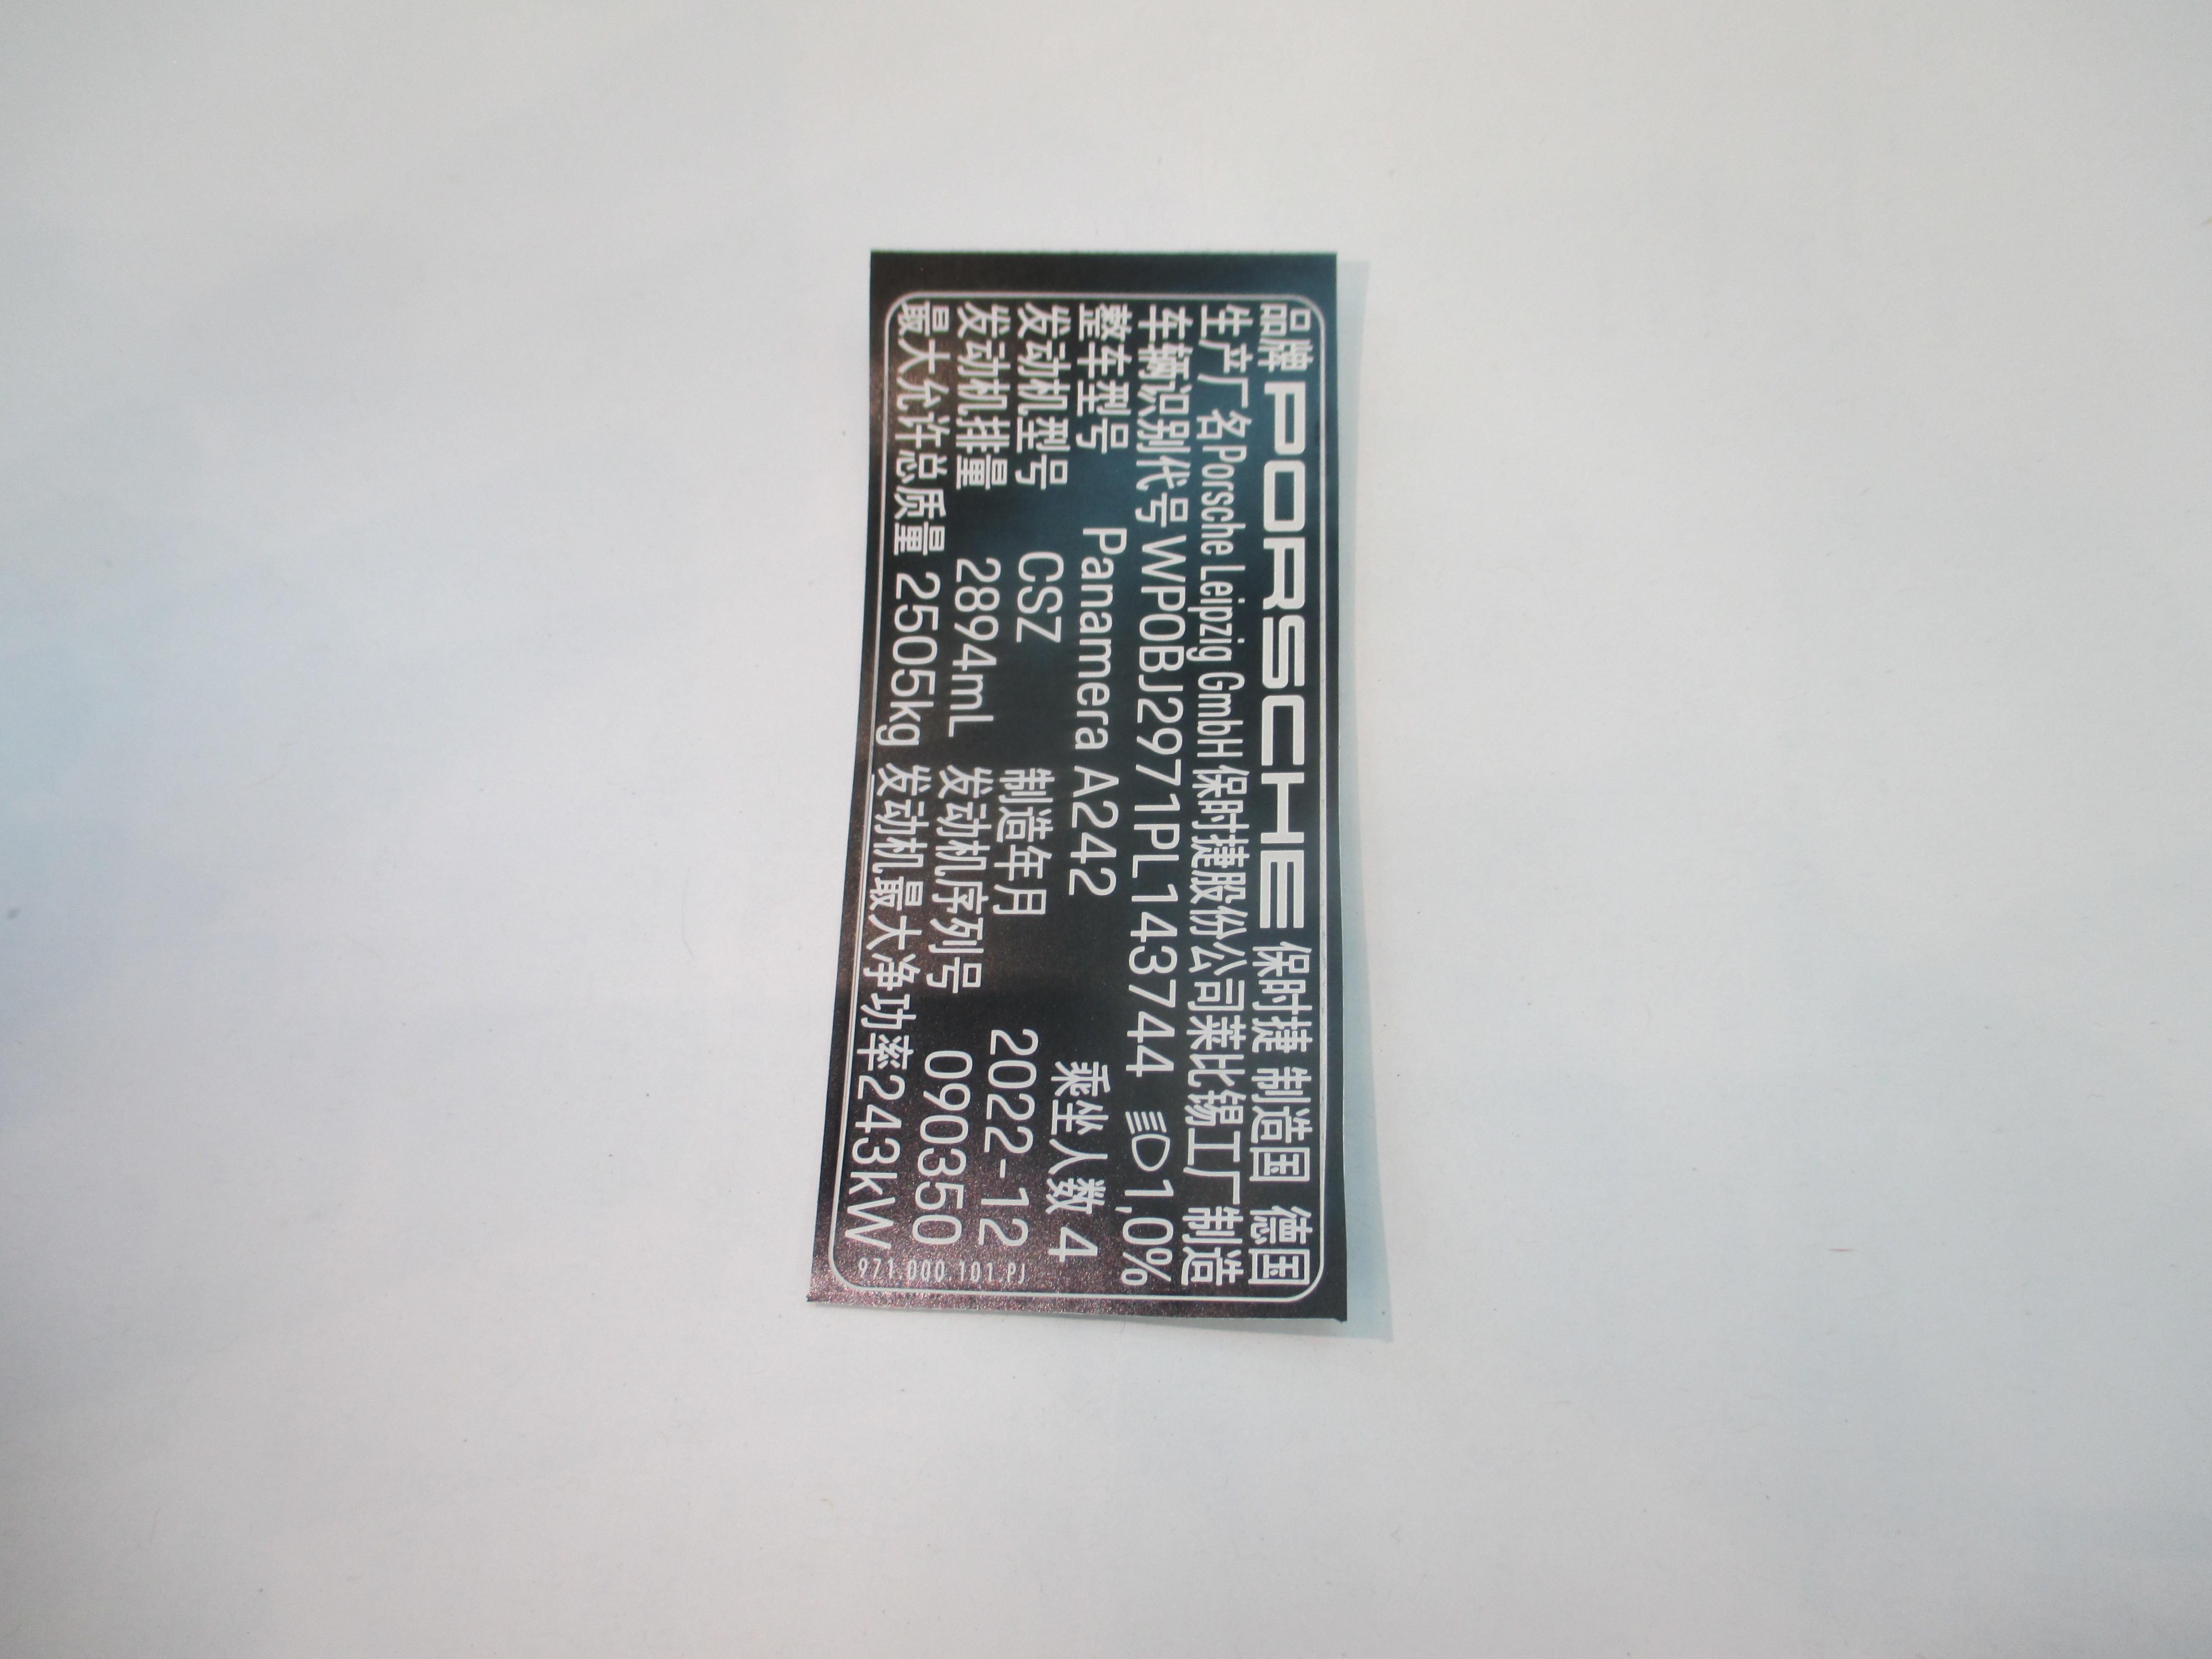Sign: (833, 295, 1324, 1300)
